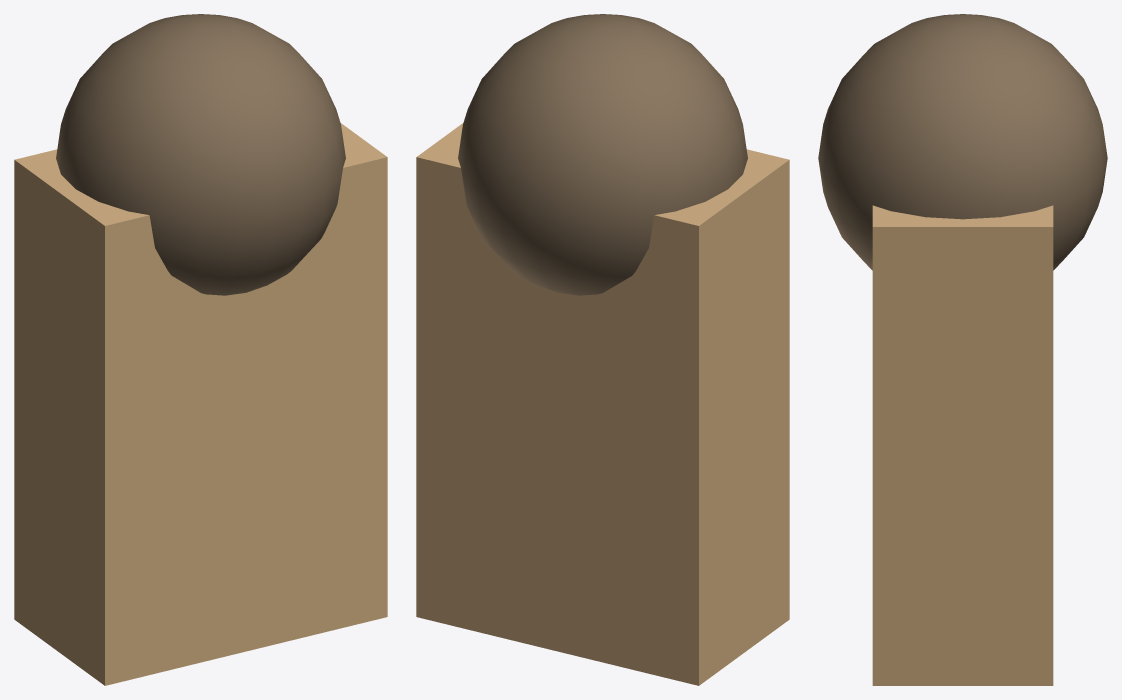
The model's file is doll_Hand_L.glb.
3 views of the same model, side by side, from view 1: azimuth 30°, elevation 25°; view 2: azimuth 150°, elevation 25°; view 3: azimuth 270°, elevation 25° (orthographic).
Parts seen in each view (by area): view 1: Hand_L; view 2: Hand_L; view 3: Hand_L.
Part boxes in pixels (x1,y1,x2,y2): Hand_L: (14,14,387,685); Hand_L: (416,14,789,685); Hand_L: (818,14,1107,685).
Size of the model in its own units: 0.09 by 0.18 by 0.08.
